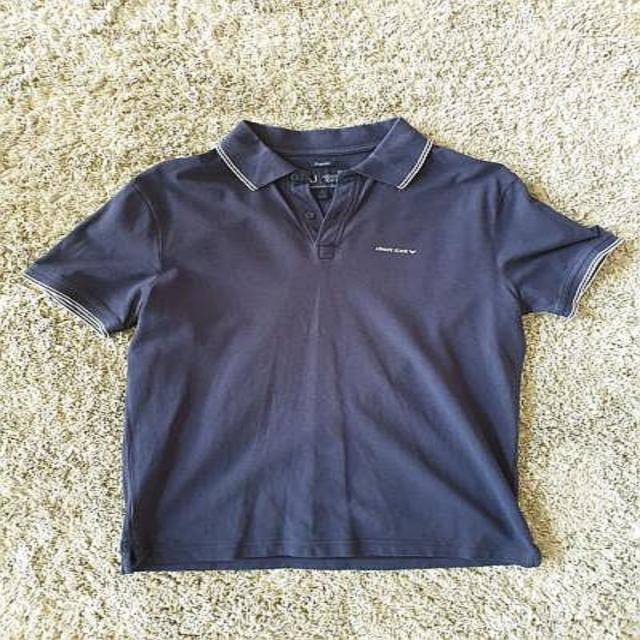T_SHIRT: (21, 114, 626, 577)
